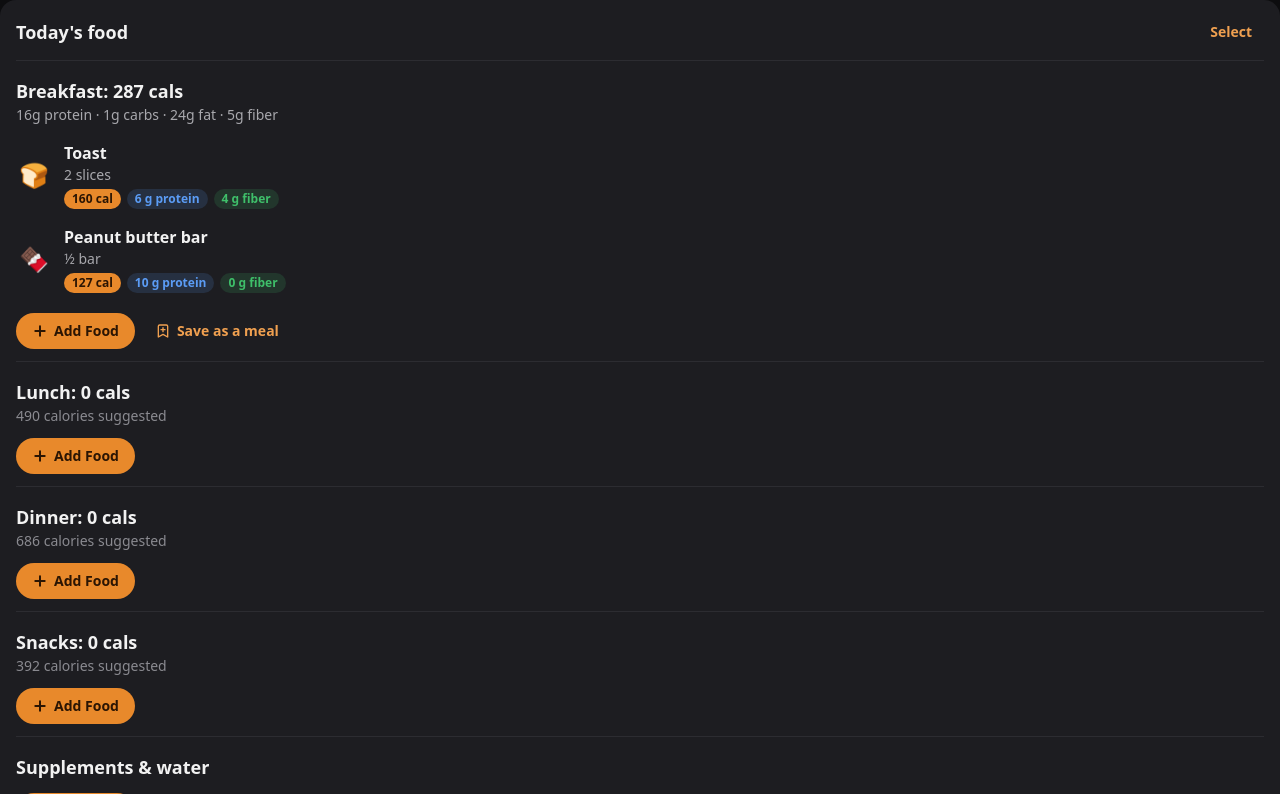
Test case: Food widget (everything the Log page did) › select several, then Delete selected asks once and deletes each
The image size is (1280, 794).
Expected: the button "🍞 Toast 2 slices 160 cal 6 g protein 4 g fiber" is shown, [8,133,1272,217]
Click the button "Select": {"x": 1231, "y": 32} [1198,16,1264,48]
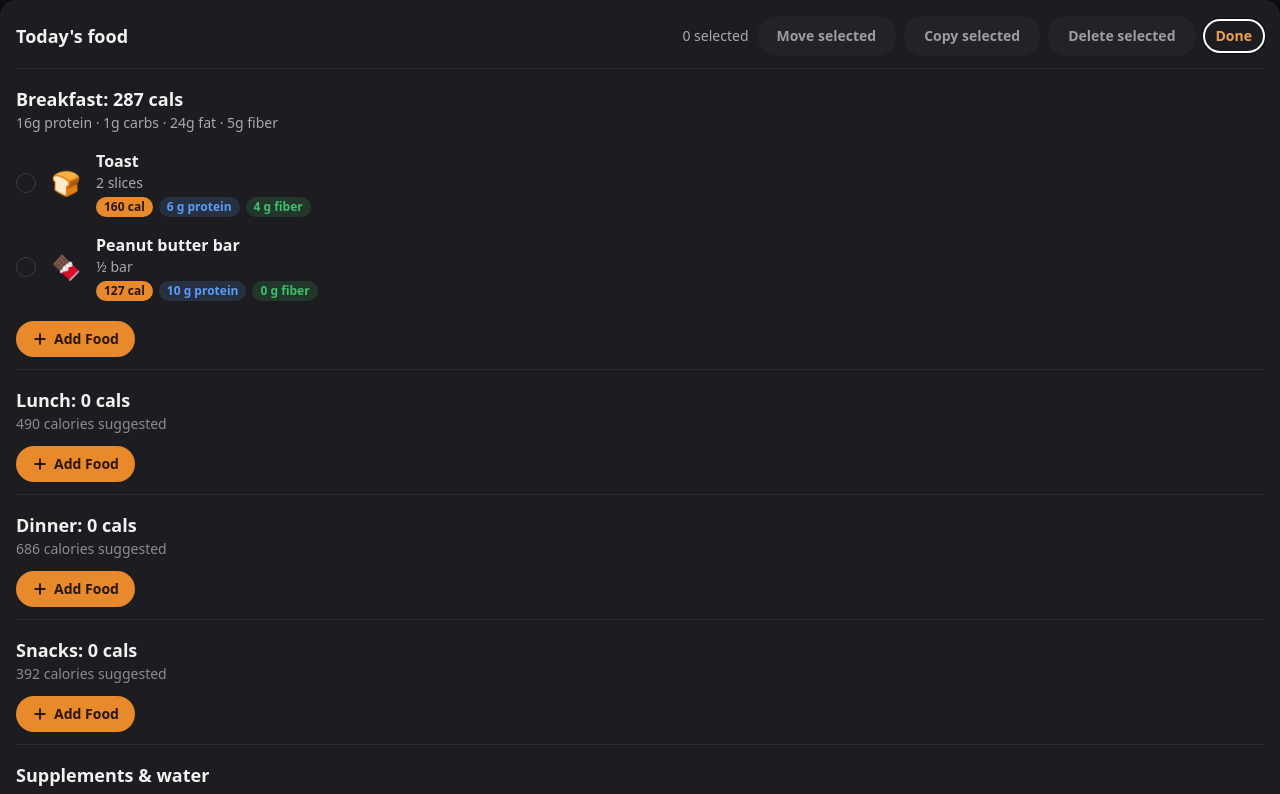
Click the checkbox labelled "🍞 Toast 2 slices 160 cal 6 g protein 4 g fiber": {"x": 117, "y": 161} [8,141,1272,225]
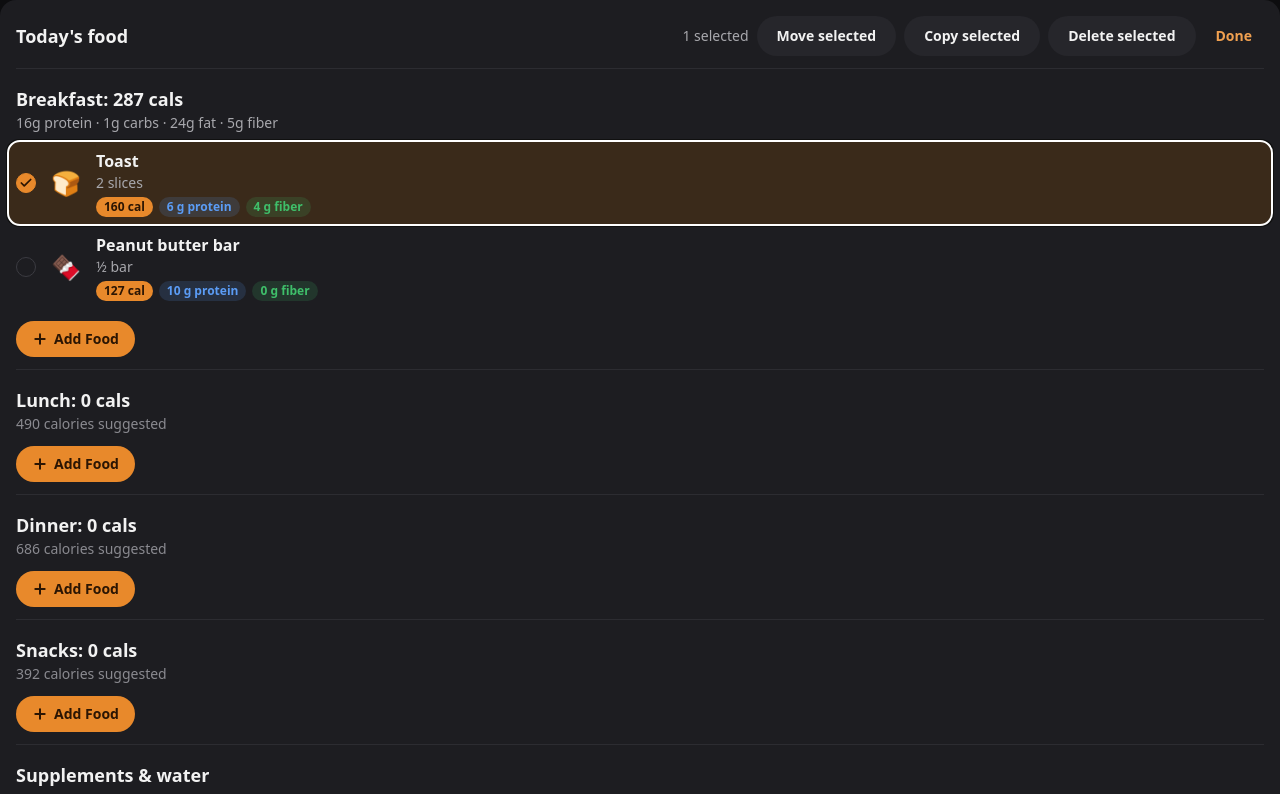
Click the checkbox labelled "🍫 Peanut butter bar ½ bar 127 cal 10 g protein 0 g fiber": {"x": 168, "y": 245} [8,225,1272,309]
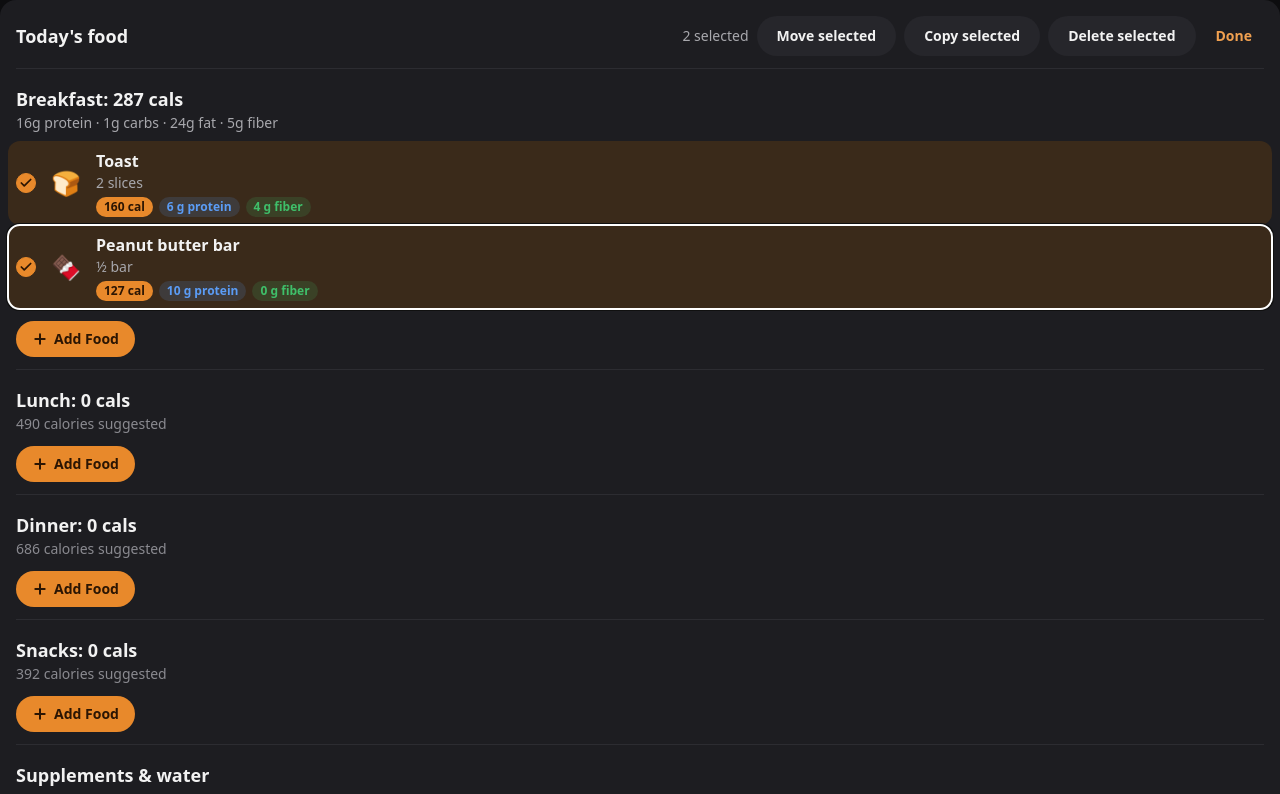
Click the button "Delete selected": {"x": 1122, "y": 36} [1048,16,1196,56]
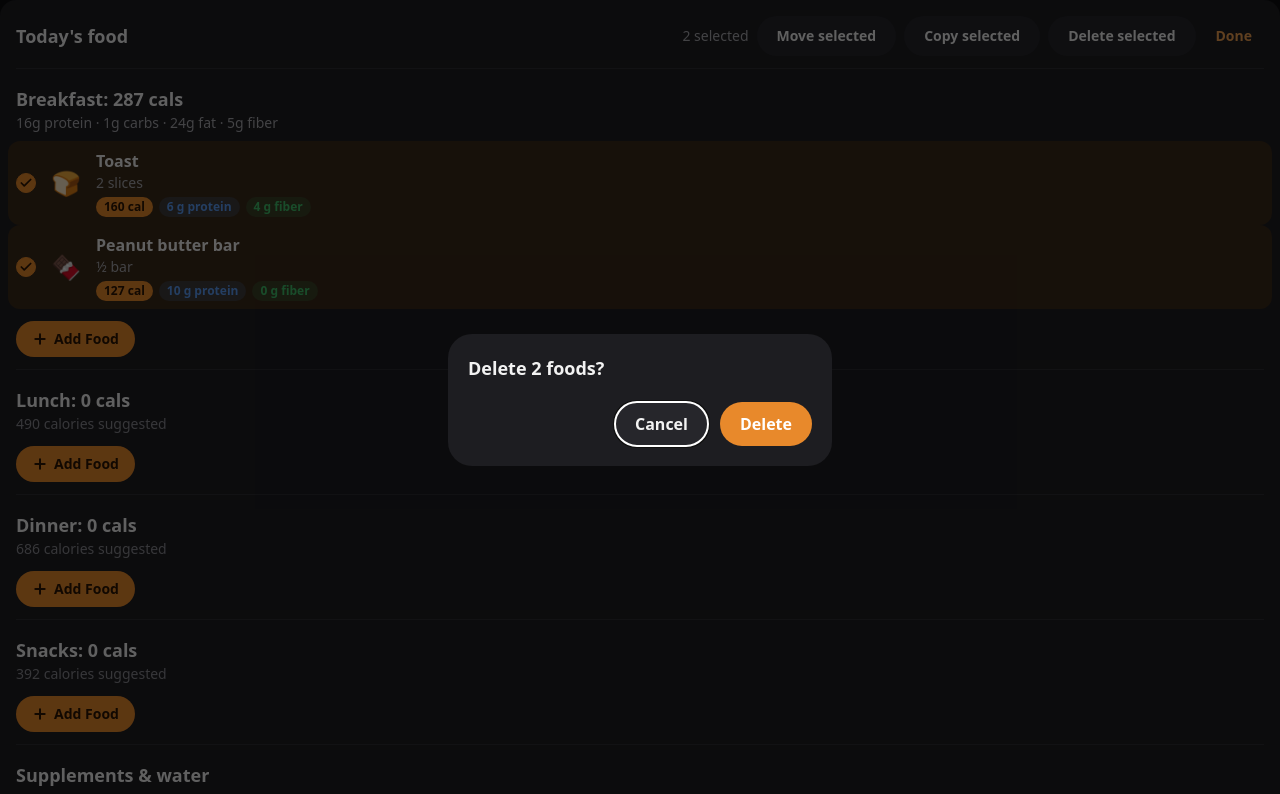
Click the button "Delete": {"x": 766, "y": 424} [720,402,812,446]
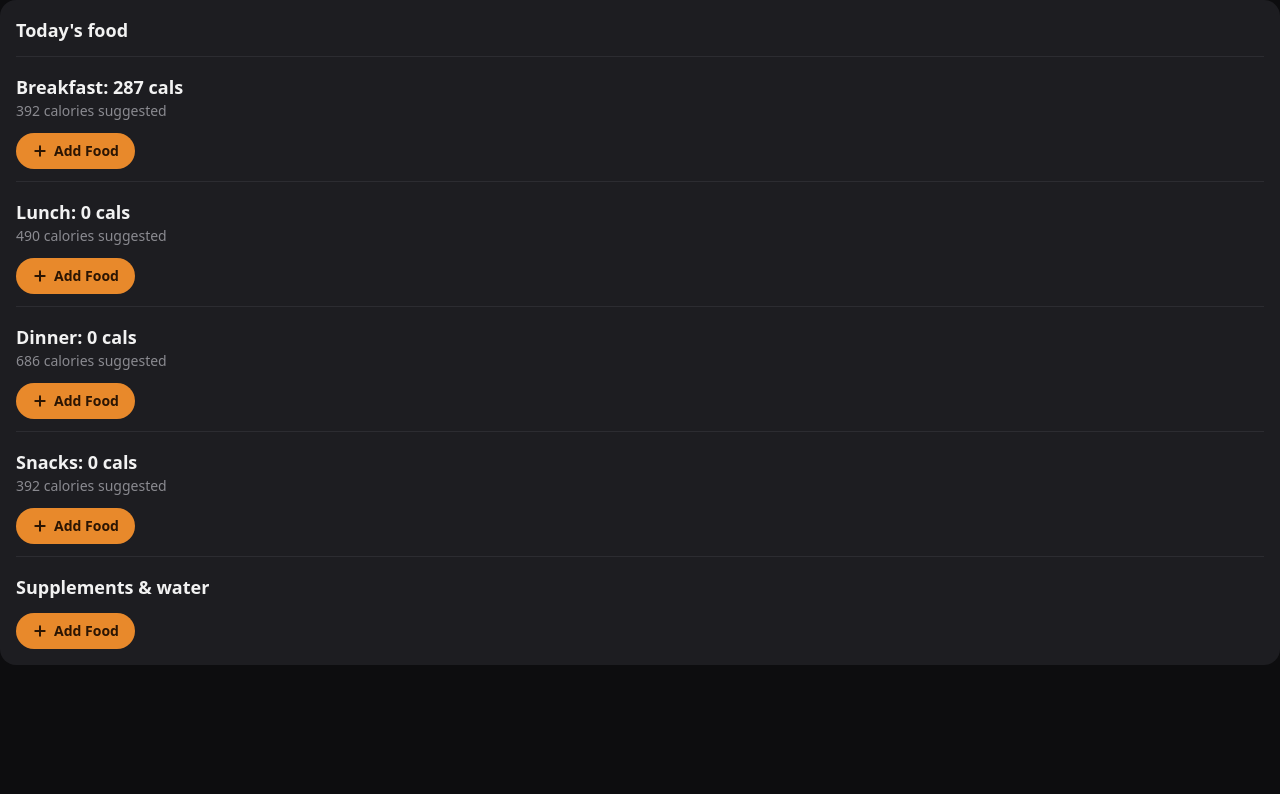
Result: the checkbox labelled "Toast" is gone
Result: the button "Delete selected" is gone
